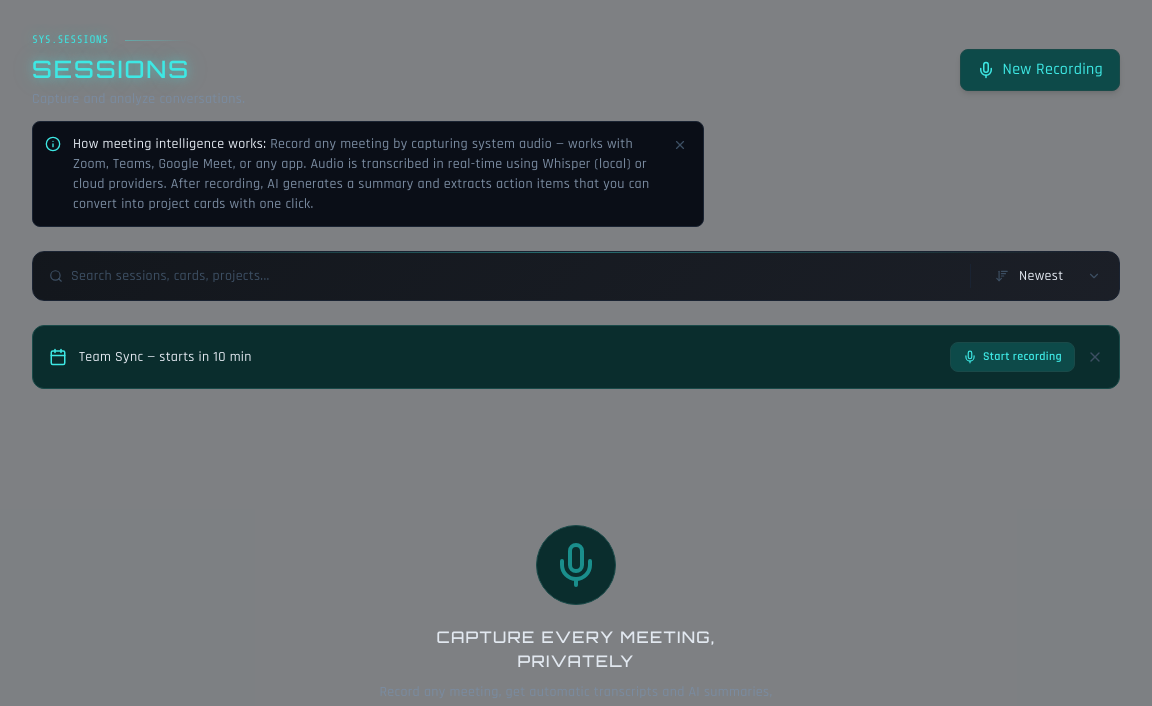
Test: SessionsHome — calendar ribbon (Phase G Task 4) › dismissed: clicking dismiss removes the ribbon for that event
Expected: the button "Team Sync — starts in 10 min" is shown, [79,346,938,366]
Step 1. Click the button named "Dismiss upcoming event" → (1095, 356), box [1087,348,1103,364]
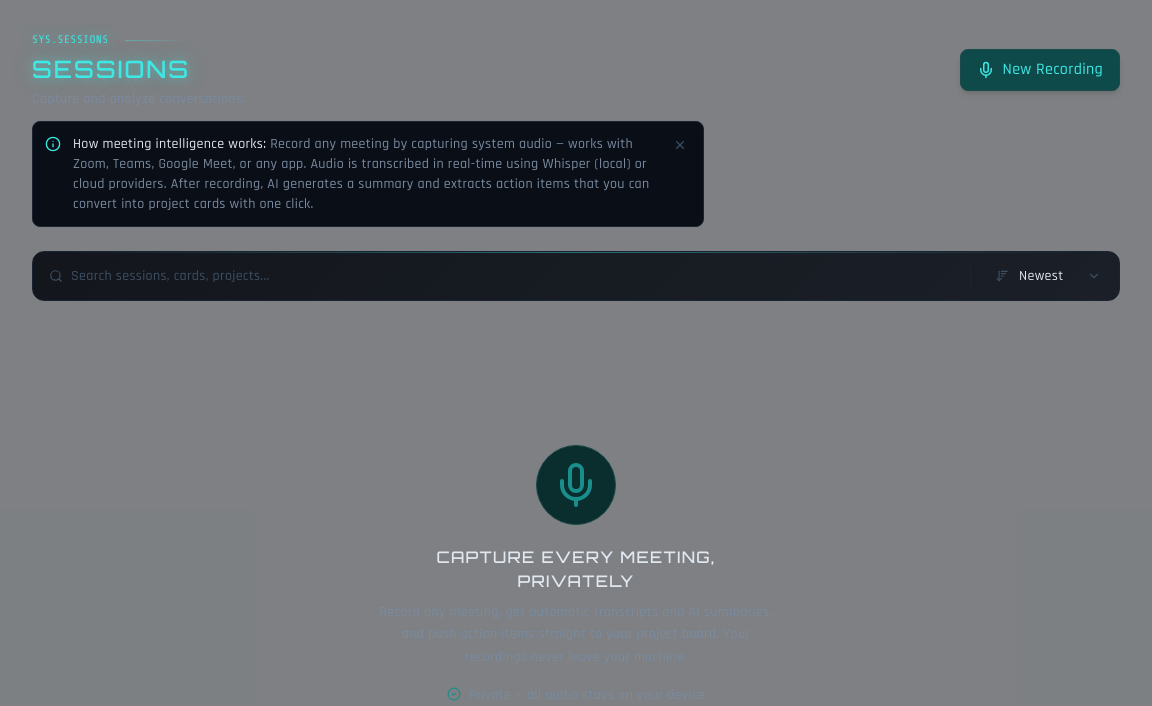
Now the button "Team Sync" is gone
